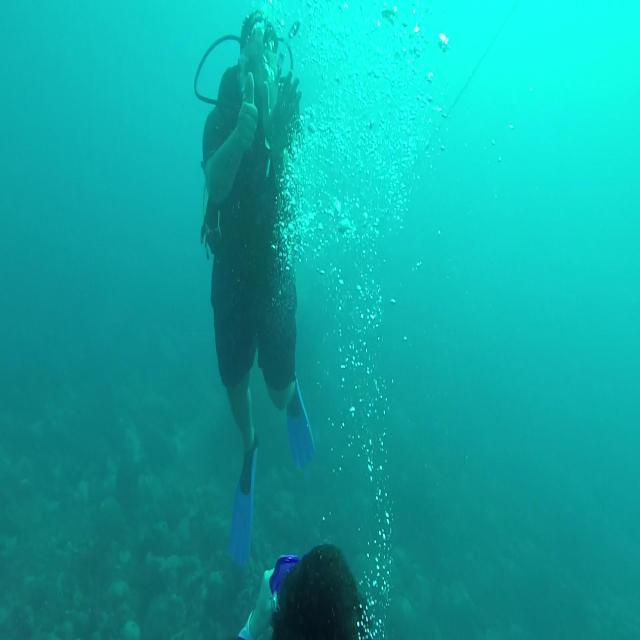human: (198, 8, 316, 566), (237, 542, 365, 638)
